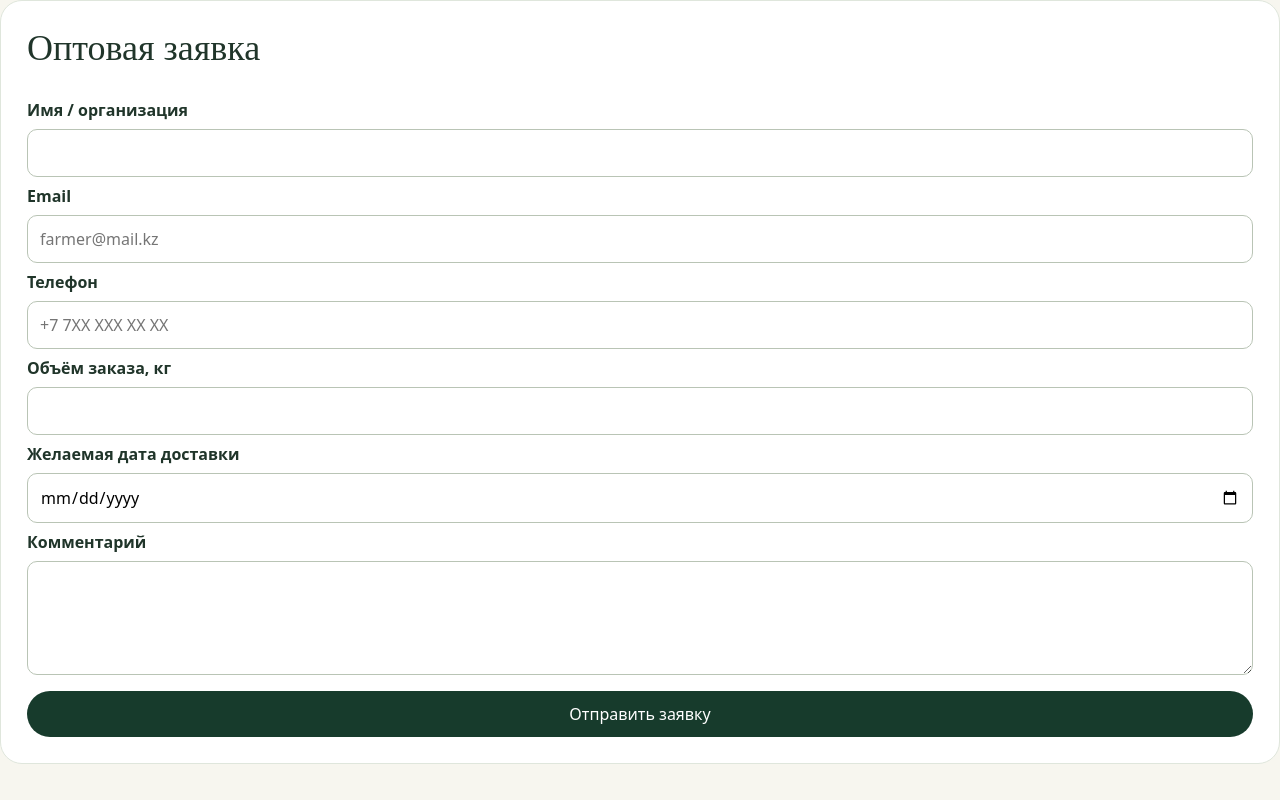
Test case: 401 clears token and shows error
In the field labelled "Имя / организация": (640, 153) [27,129,1253,177], type "Тест"
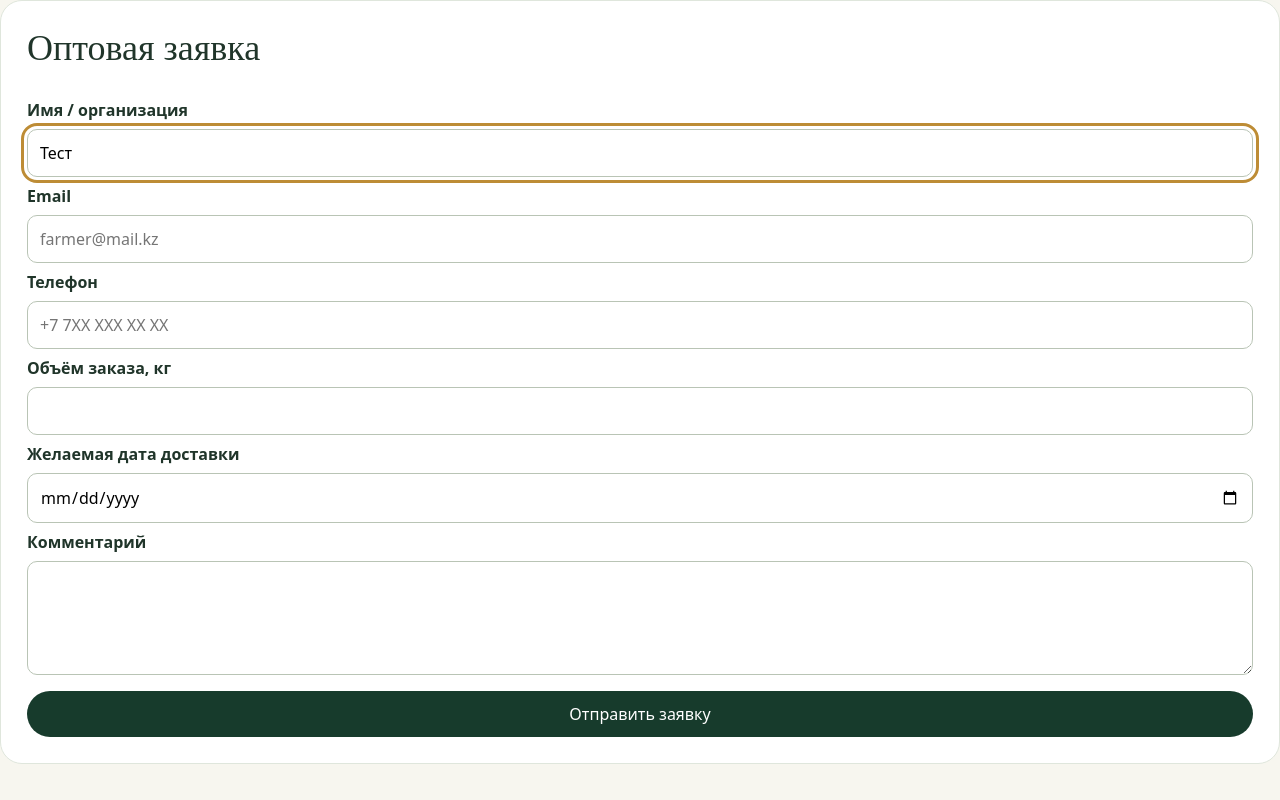
In the field labelled "Email": (640, 239) [27,215,1253,263], type "test@example.com"
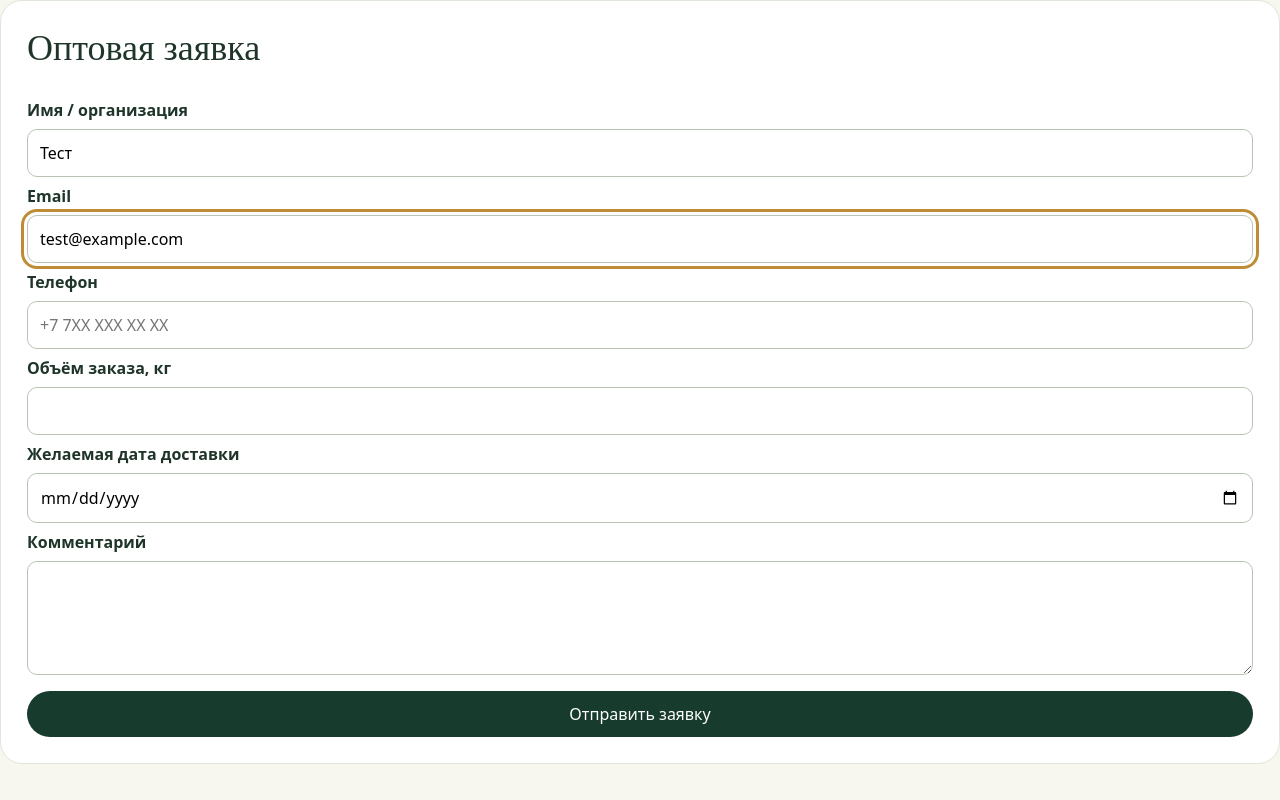
In the number field labelled "Объём заказа, кг": (640, 411) [27,387,1253,435], type "10"
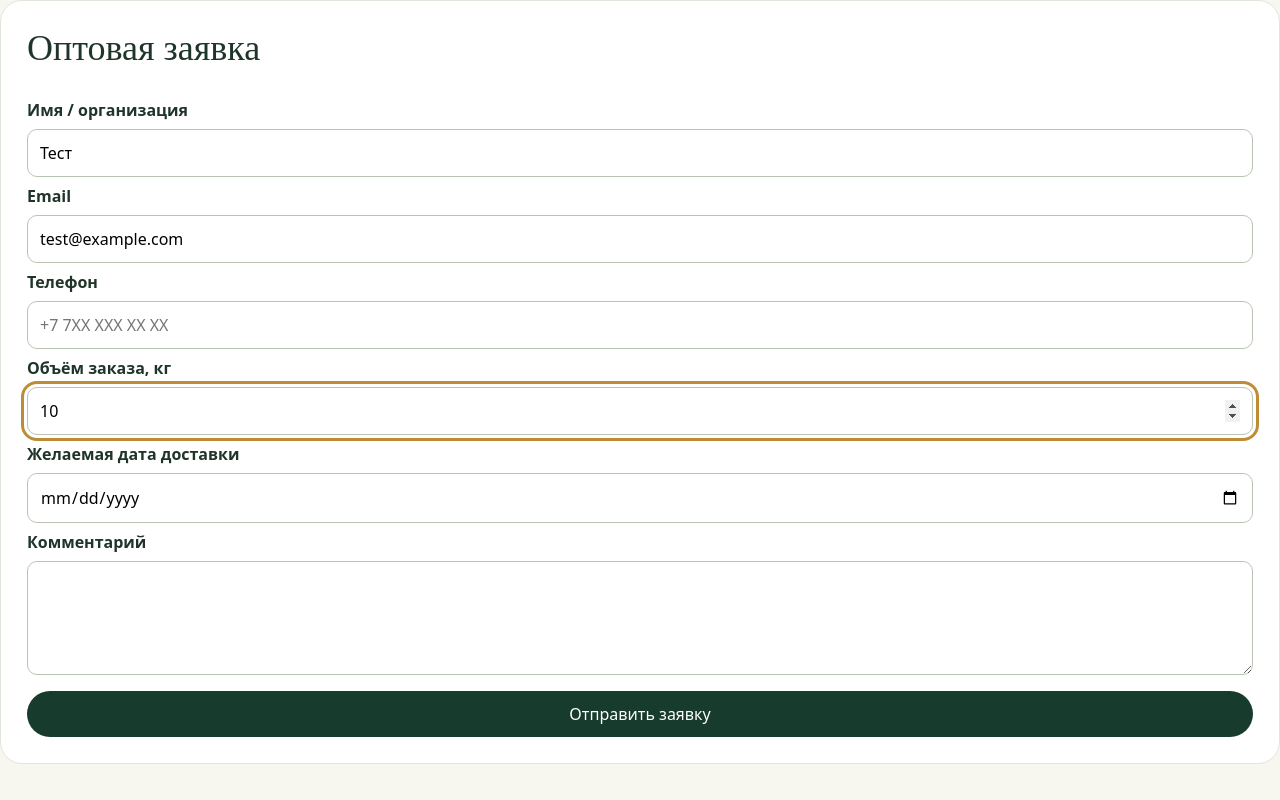
Click the button "Отправить заявку": (640, 714) [27,691,1253,737]
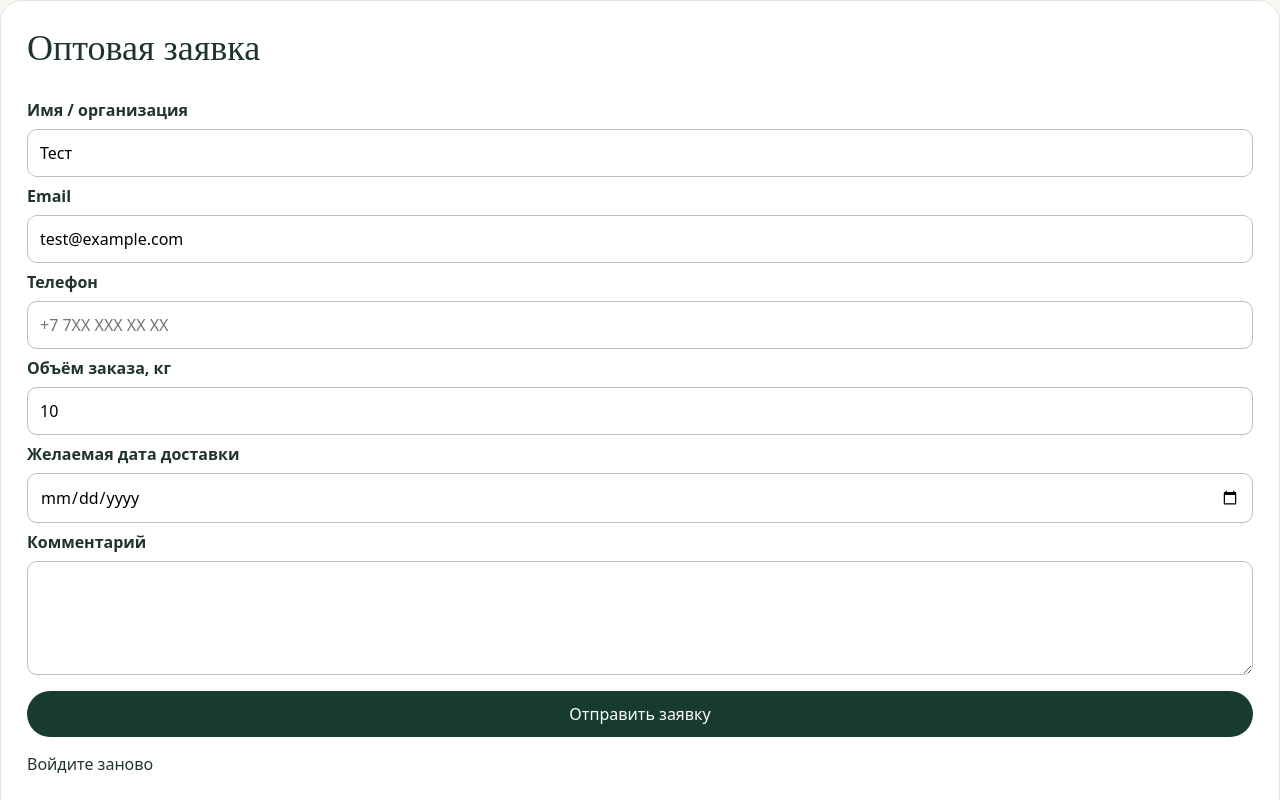
Expected: the message reads "Войдите заново", [27,753,153,775]
